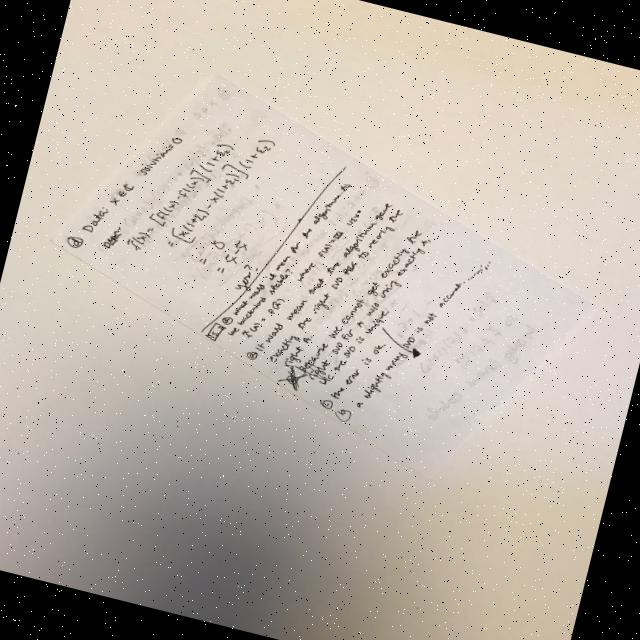paper: (15, 42, 631, 510)
